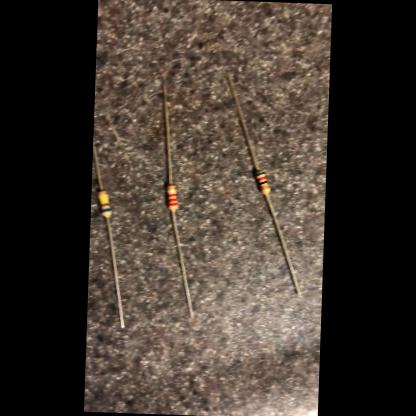resistor: (254, 168, 272, 194), (95, 192, 113, 218), (166, 184, 179, 209)
wire: (261, 195, 305, 294), (224, 76, 262, 168), (168, 209, 198, 318), (102, 218, 129, 328), (158, 80, 176, 183), (92, 138, 106, 190)
